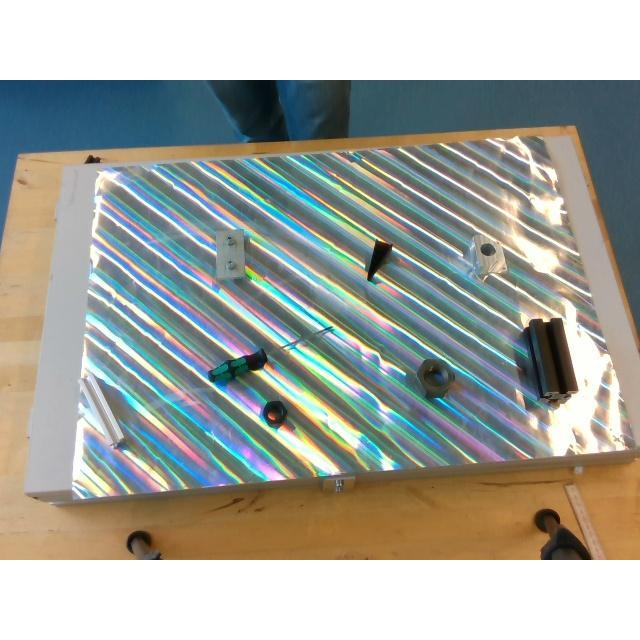F20_20_G: (78, 374, 124, 450)
M20: (262, 400, 286, 426)
M30: (416, 359, 452, 397)
S40_40_B: (522, 317, 578, 401)
Screwdriver: (208, 324, 334, 381)
